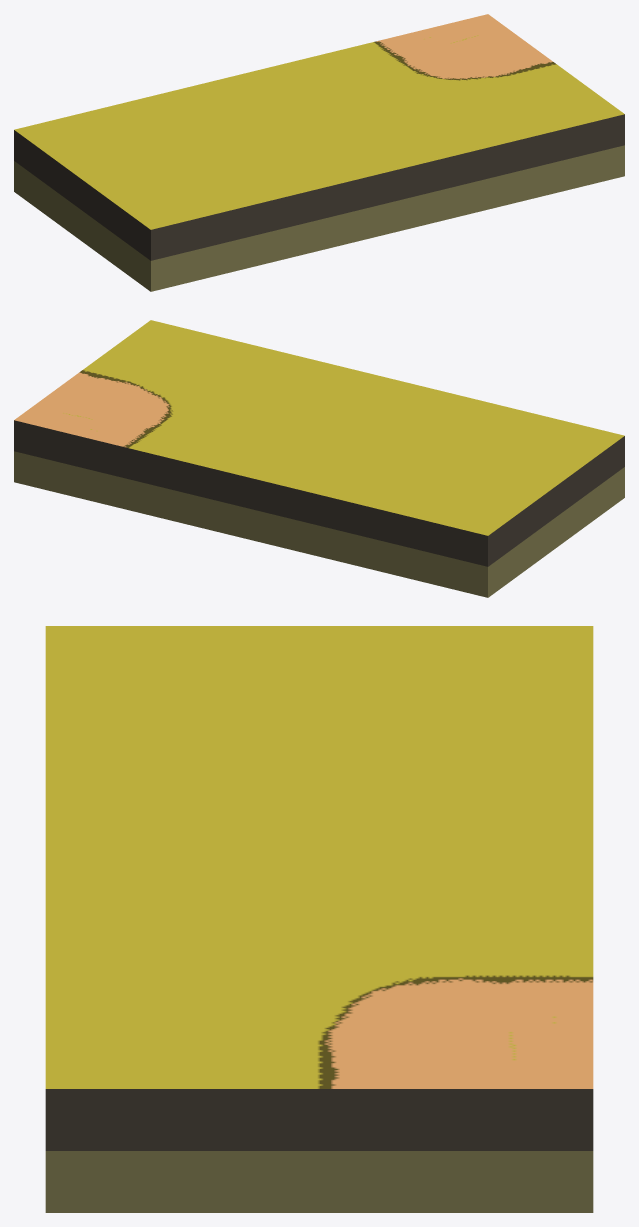
File: tile2_1 sand top Corner.fbx
3 views of the same model, one above another, from view 1: azimuth 30°, elevation 25°; view 2: azimuth 150°, elevation 25°; view 3: azimuth 270°, elevation 25° (orthographic). The views are drawn at different scales.
Parts seen in each view (by area): view 1: Cube.003; view 2: Cube.003; view 3: Cube.003.
Part boxes in pixels (x1,y1,x2,y2): Cube.003: [14, 14, 624, 291]; Cube.003: [14, 320, 624, 597]; Cube.003: [45, 626, 593, 1212].
Bounding box in the file's own units: 400 × 50 × 200.
Materials: 1 (1 with a texture image).
